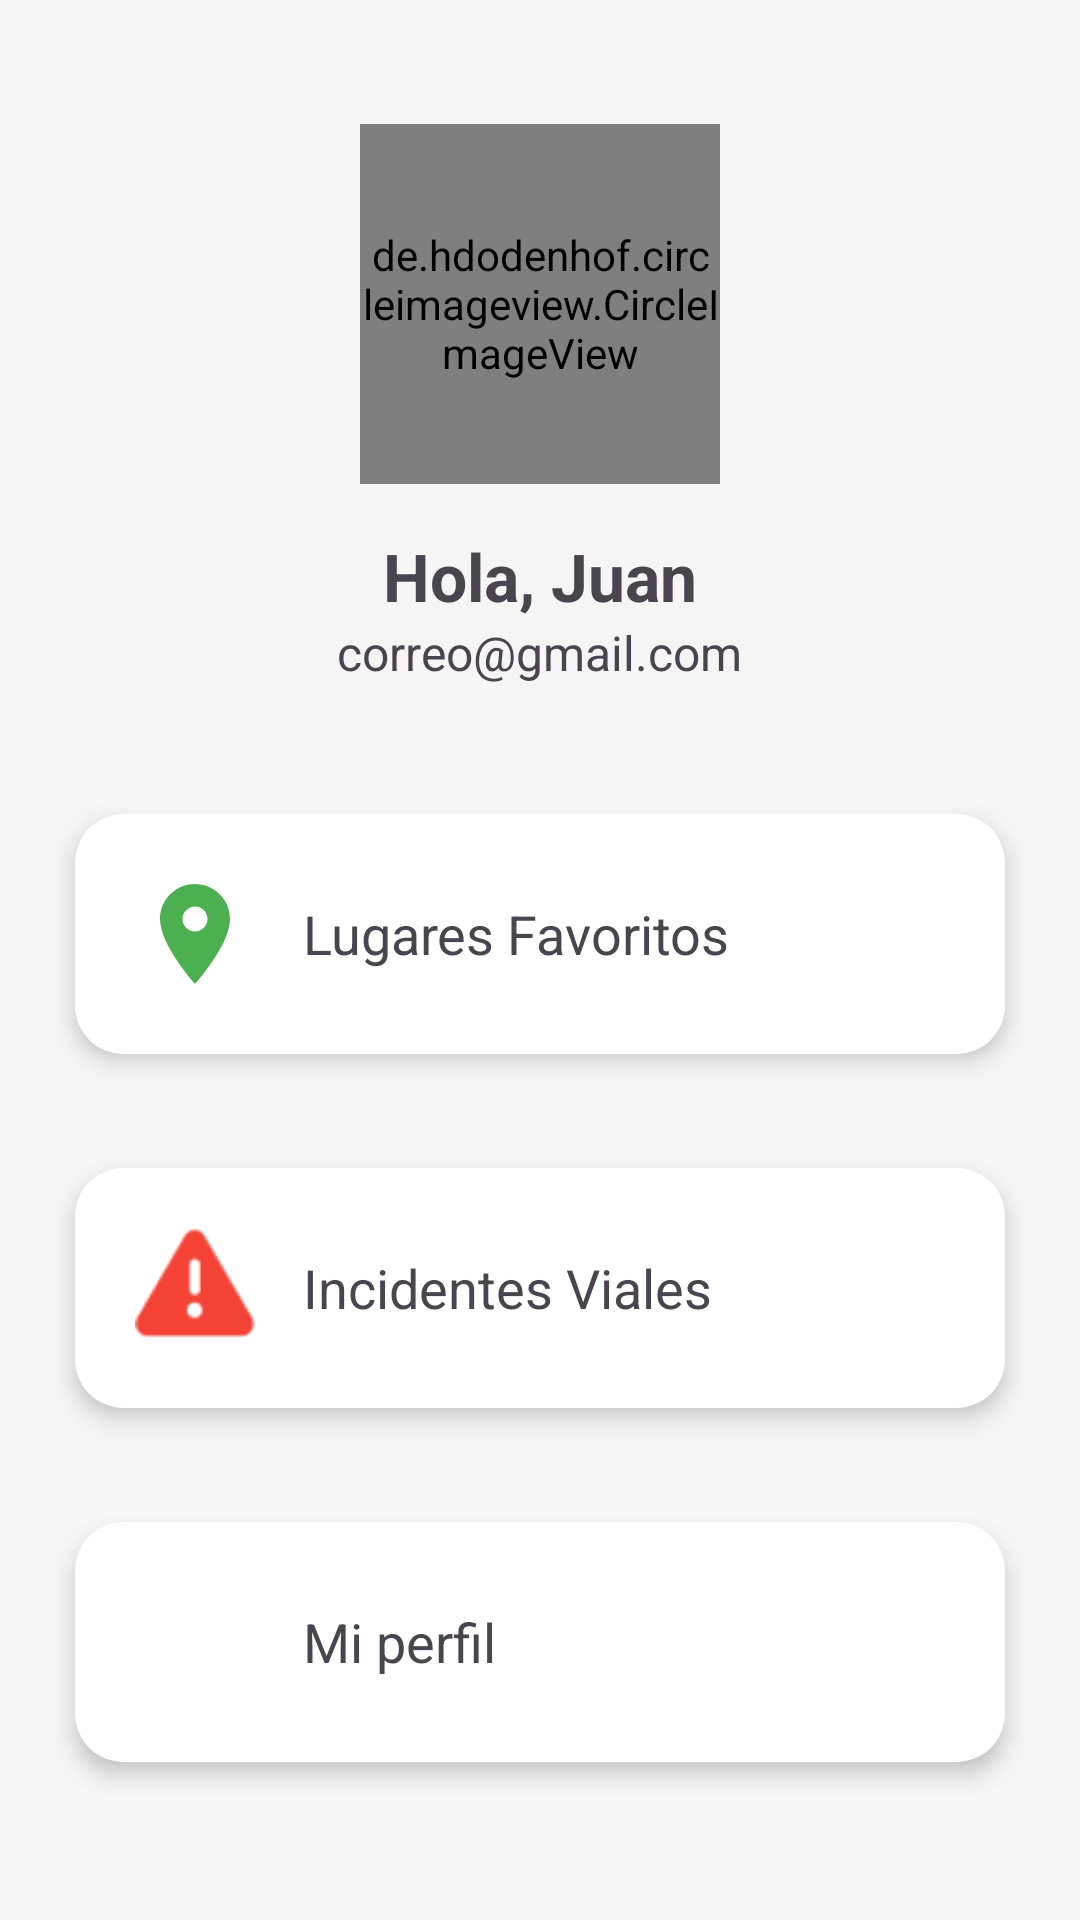

Named icons in this screenshot (1080px×1920px) and their centers, point (x, y):
alert: point (195, 1282)
place: point (195, 934)
